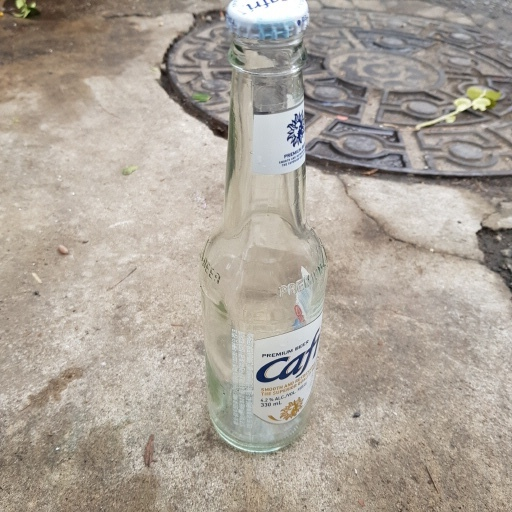Glass_1: (201, 1, 329, 454)
